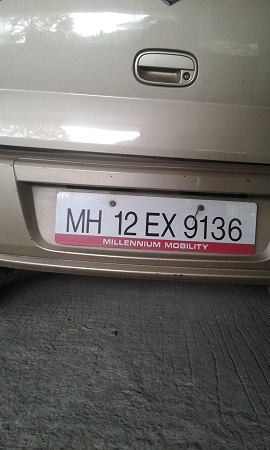licenseplate: (51, 184, 263, 260)
